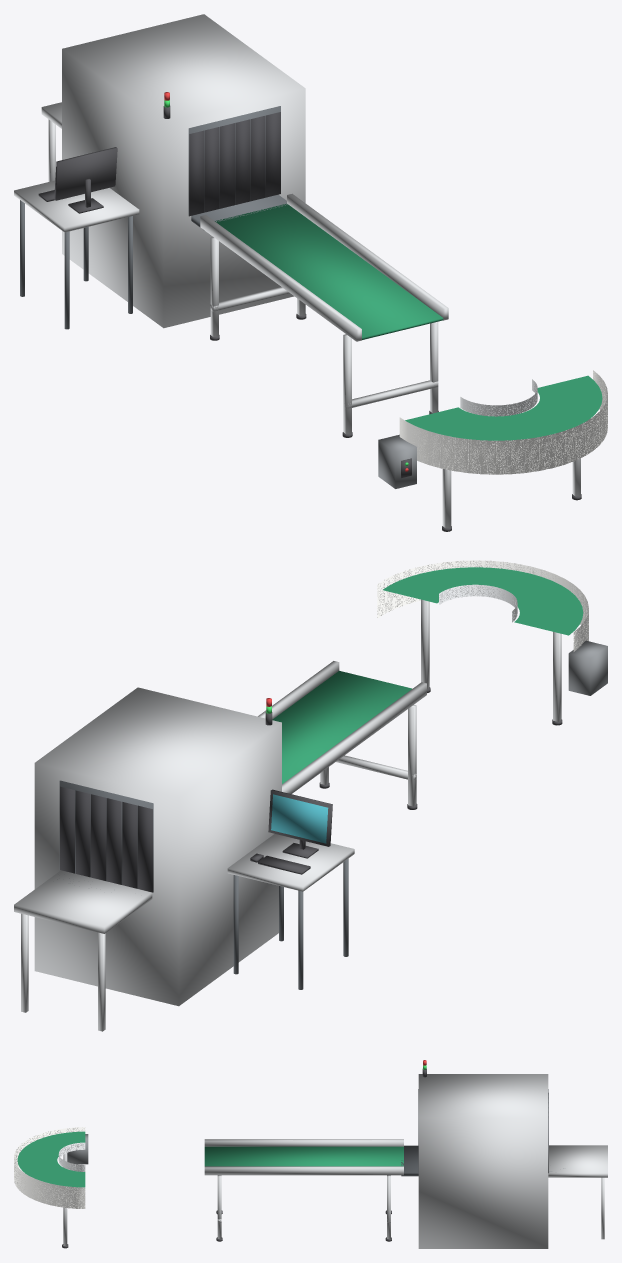
The model's file is Conveyor.fbx.
3 views of the same model, one above another, from view 1: azimuth 30°, elevation 25°; view 2: azimuth 150°, elevation 25°; view 3: azimuth 270°, elevation 25° (orthographic). The views are drawn at different scales.
Parts seen in each view (by area): view 1: Security_XRay_Scanner_Station, Conveyor_Straight_Segment_2M, Conveyor_180_Loop_Terminal; view 2: Security_XRay_Scanner_Station, Conveyor_180_Loop_Terminal, Conveyor_Straight_Segment_2M; view 3: Security_XRay_Scanner_Station, Conveyor_Straight_Segment_2M, Conveyor_180_Loop_Terminal.
Boxes of the visible parts, x1,y1,x2,y2 form: Security_XRay_Scanner_Station: (14, 14, 305, 329); Conveyor_Straight_Segment_2M: (200, 193, 448, 437); Conveyor_180_Loop_Terminal: (378, 370, 607, 531); Security_XRay_Scanner_Station: (14, 687, 354, 1031); Conveyor_180_Loop_Terminal: (377, 560, 607, 725); Conveyor_Straight_Segment_2M: (258, 661, 426, 809); Security_XRay_Scanner_Station: (401, 1060, 607, 1248); Conveyor_Straight_Segment_2M: (204, 1139, 403, 1241); Conveyor_180_Loop_Terminal: (14, 1127, 88, 1248).
Bounding box in the file's own units: 187 × 162 × 596.
